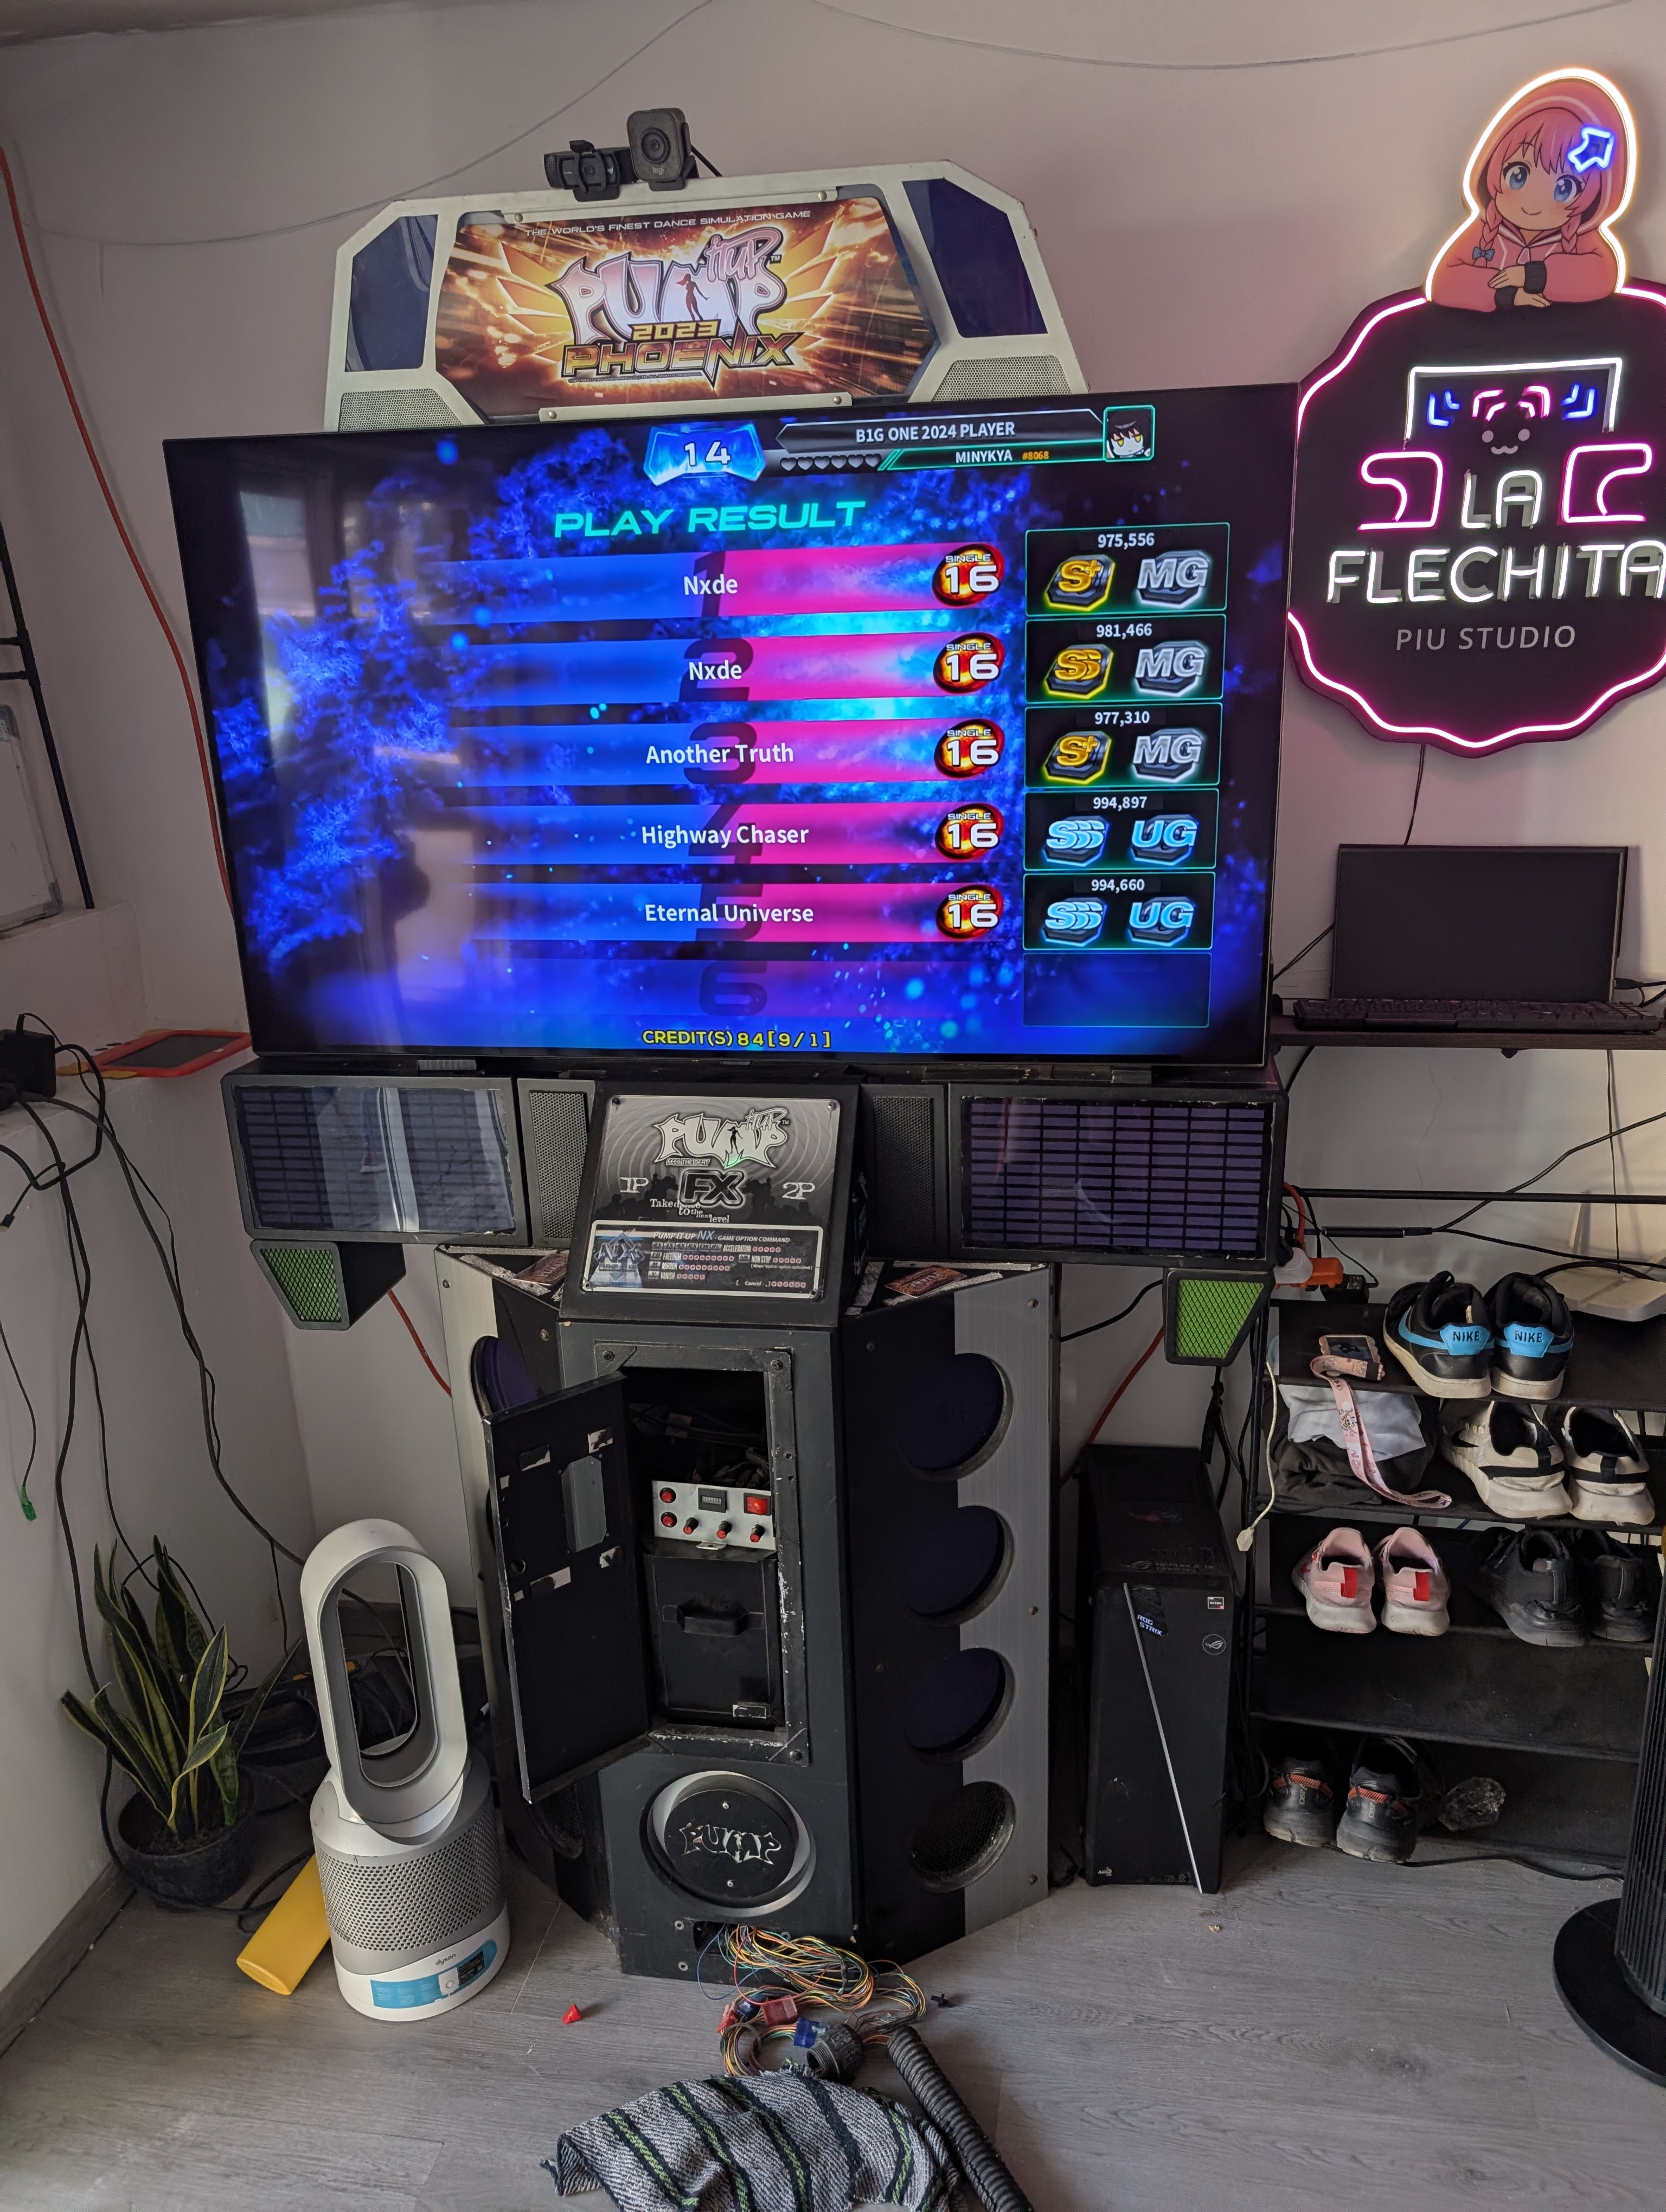fullscore: (480, 432, 1307, 1110)
